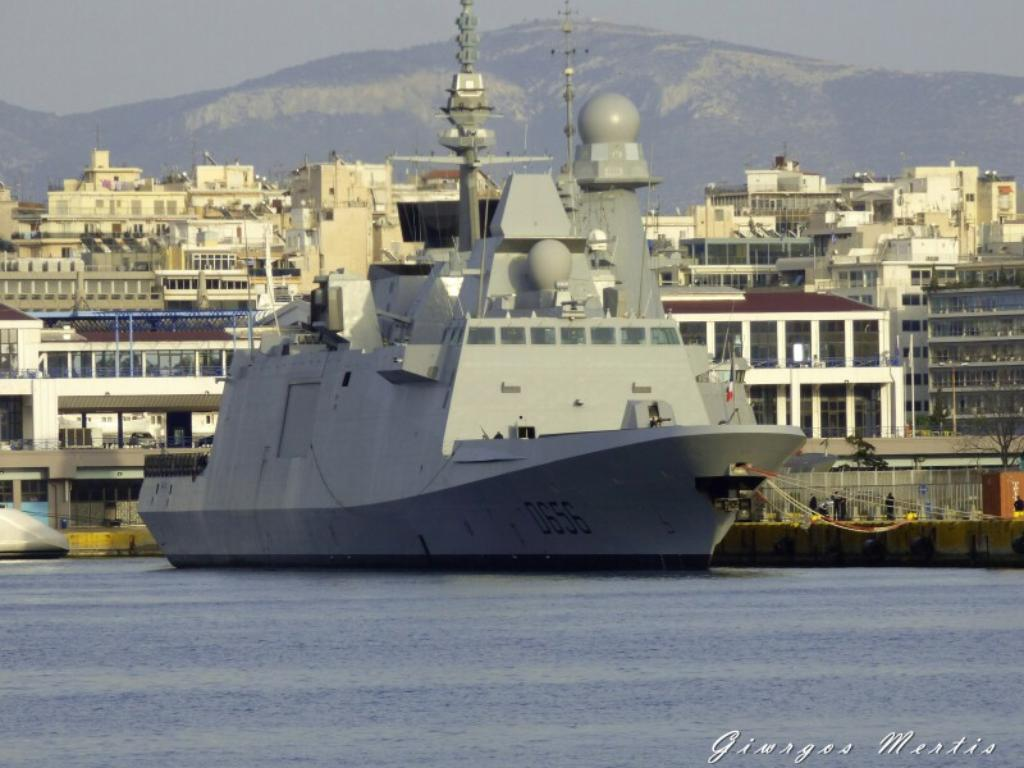Warship: (132, 0, 808, 574)
